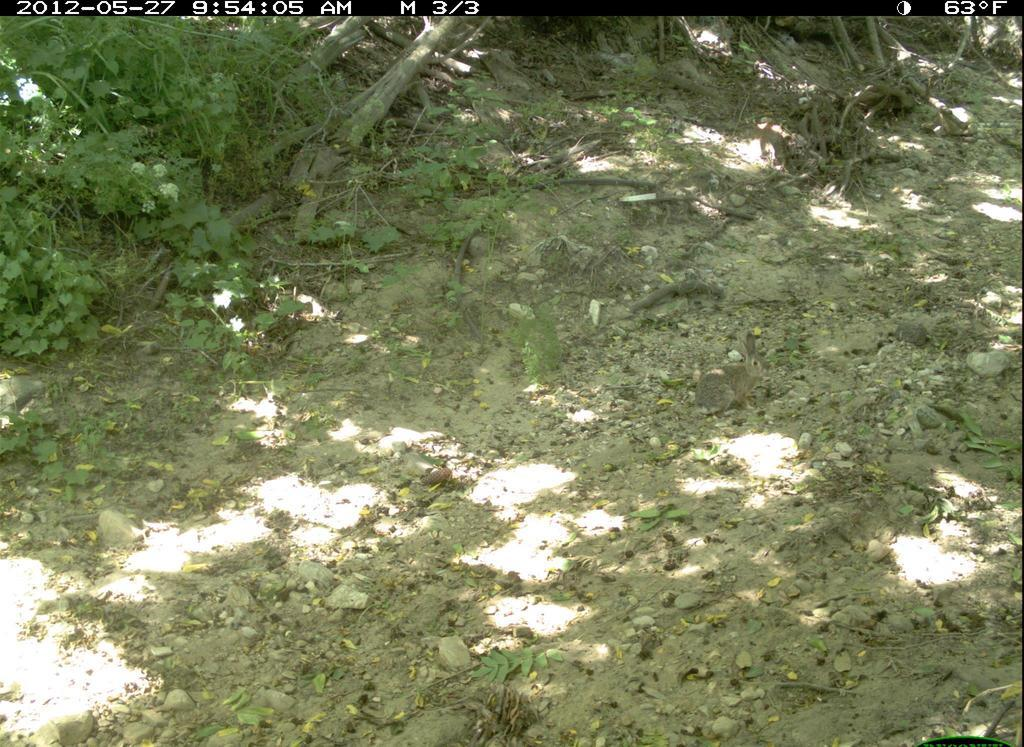rabbit: (683, 326, 777, 431)
